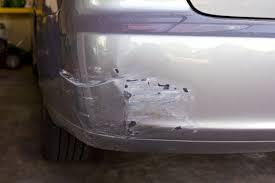rear-bumper-dent: (58, 67, 208, 143)
